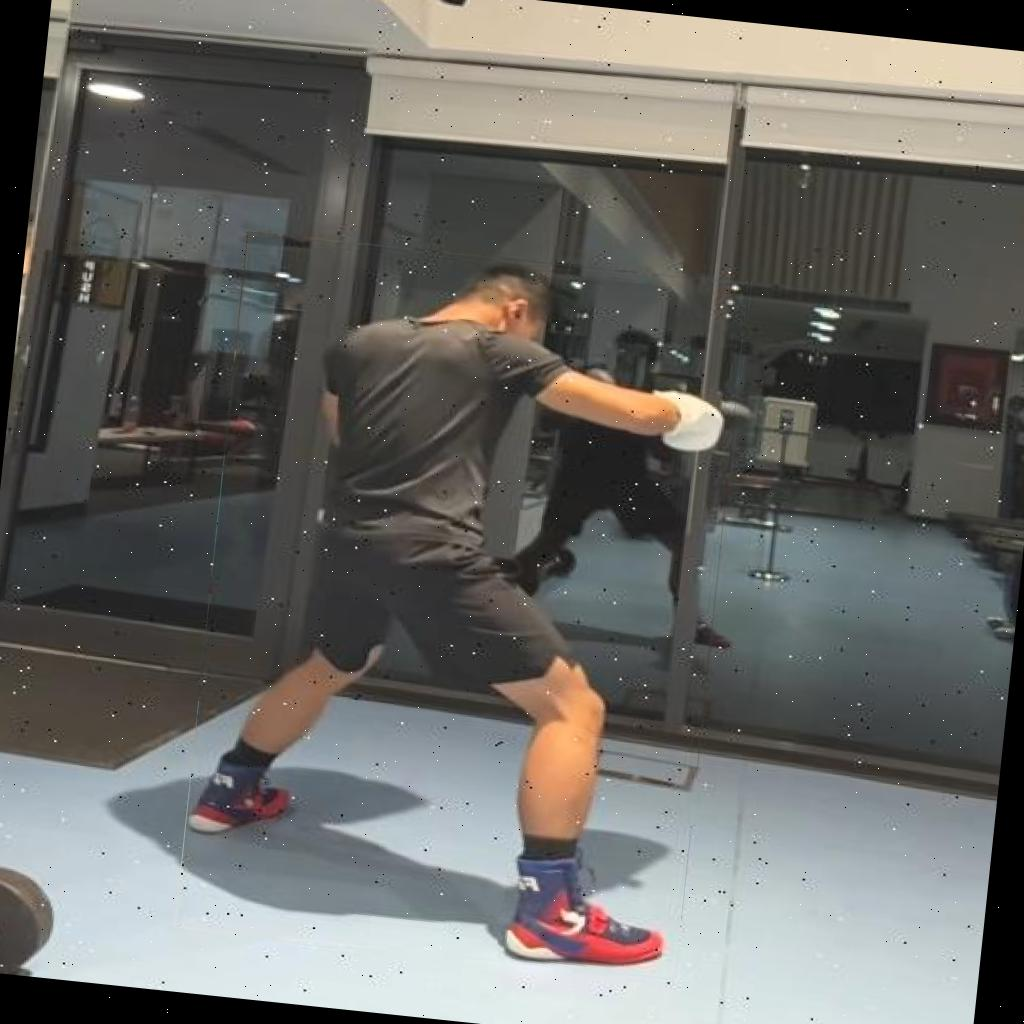hook: (174, 231, 748, 980)
